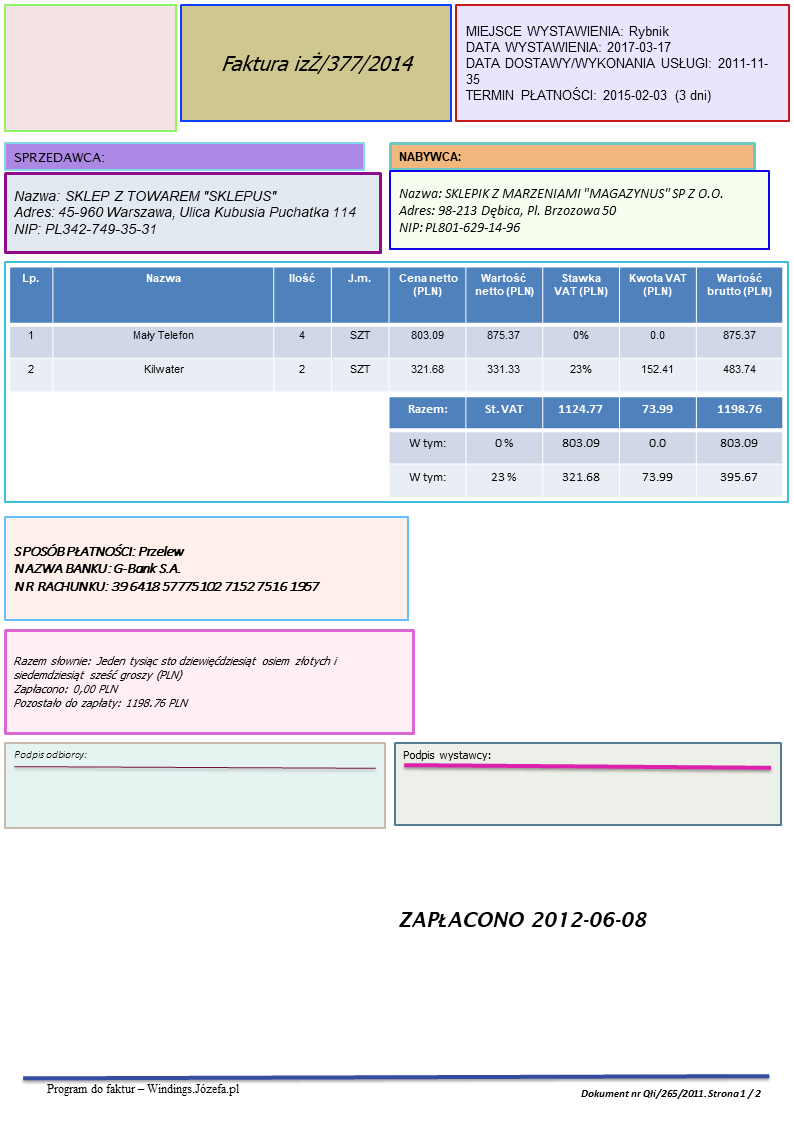Table: (8, 264, 784, 394), (386, 394, 785, 499)
TextBox: (463, 20, 772, 107), (12, 652, 344, 711), (11, 186, 358, 240), (11, 540, 322, 598), (396, 183, 726, 237), (397, 906, 648, 932), (217, 50, 418, 77), (44, 1077, 240, 1099), (578, 1083, 764, 1102), (9, 147, 106, 165), (399, 746, 493, 764), (11, 744, 88, 763), (395, 145, 462, 166)
